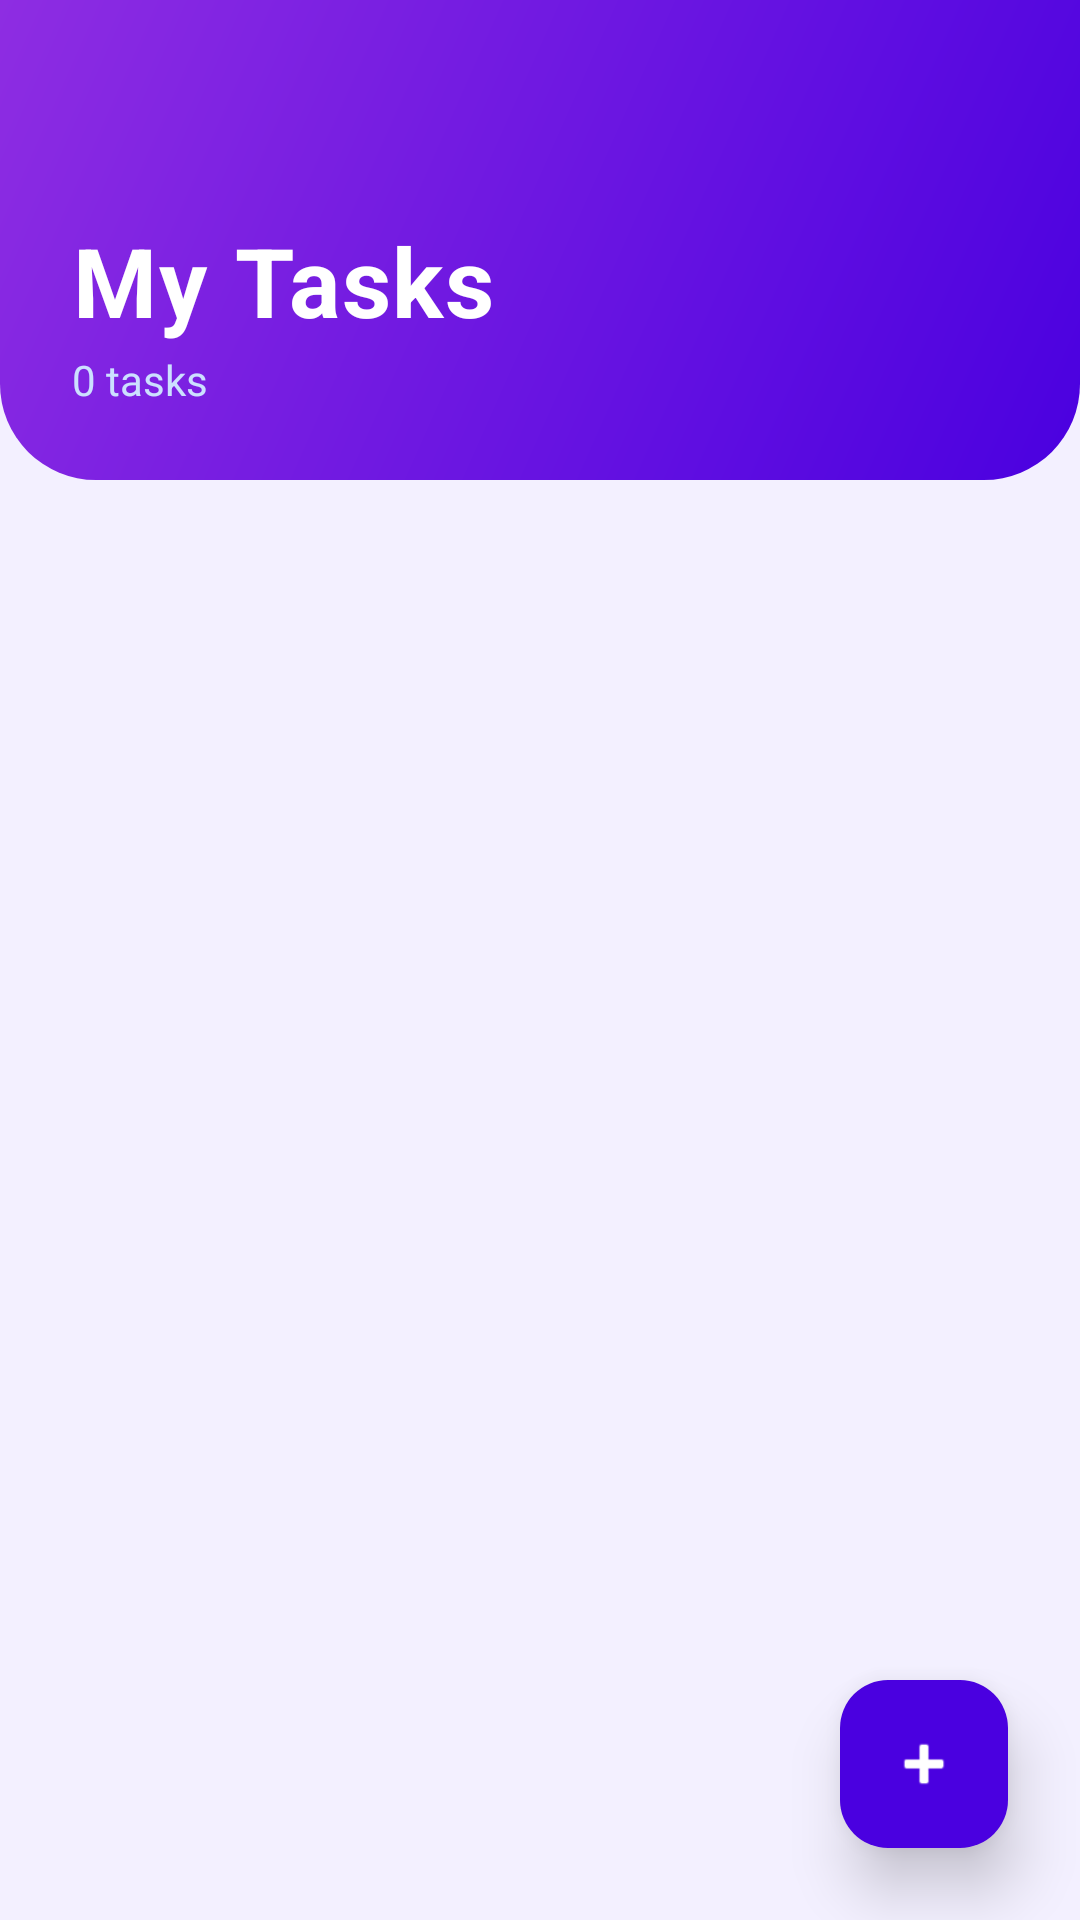

Screen size 1080*1920. Icon name, then its center in pixels as [x,y]:
Add Task: [924,1764]
